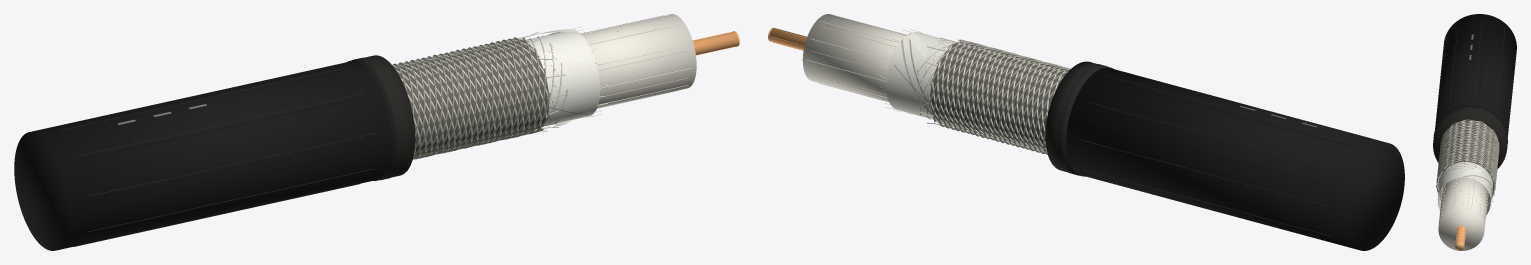
Rendered from rf-belden1855a-macro.glb.
3 views of the same model, side by side, from view 1: azimuth 30°, elevation 25°; view 2: azimuth 150°, elevation 25°; view 3: azimuth 270°, elevation 25° (orthographic). The views are drawn at different scales.
Visible parts, largest first — view 1: macro jacket body, macro dielectric exposed core, shadow seen through braid windows, continuous foil sleeve under braid, thick jacket cut wall, rounded jacket cut lip, polished solid center conductor, macro braid shadow carrier 06 strand 1, macro braid shadow carrier 04 strand 1, macro braid shadow carrier 08 strand 1, macro braid shadow carrier 05 strand 1, macro braid shadow carrier 07 strand 1 (+2 smaller); view 2: macro jacket body, macro dielectric exposed core, shadow seen through braid windows, continuous foil sleeve under braid, thick jacket cut wall, rounded jacket cut lip, polished solid center conductor, macro braid shadow carrier 04 strand 1, macro braid shadow carrier 02 strand 1, macro braid shadow carrier 03 strand 1, macro braid shadow carrier 01 strand 1, macro braid shadow carrier 12 strand 1 (+3 smaller); view 3: macro jacket body, macro dielectric exposed core, thick jacket cut wall, continuous foil sleeve under braid, shadow seen through braid windows, macro braid shadow carrier 05 strand 2, macro braid shadow carrier 11 strand 2, macro braid shadow carrier 08 strand 2, macro braid shadow carrier 04 strand 2, macro braid shadow carrier 10 strand 2, macro braid shadow carrier 09 strand 2, rounded jacket cut lip (+42 smaller).
Part boxes in pixels (x1,y1,x2,y2): macro jacket body: [14, 61, 390, 250]; macro dielectric exposed core: [582, 14, 696, 108]; shadow seen through braid windows: [394, 40, 548, 155]; continuous foil sleeve under braid: [526, 30, 600, 125]; thick jacket cut wall: [347, 55, 415, 180]; rounded jacket cut lip: [352, 57, 403, 180]; polished solid center conductor: [693, 31, 738, 54]; macro braid shadow carrier 06 strand 1: [425, 38, 522, 157]; macro braid shadow carrier 04 strand 1: [415, 41, 511, 158]; macro braid shadow carrier 08 strand 1: [437, 37, 534, 154]; macro braid shadow carrier 05 strand 1: [420, 39, 516, 158]; macro braid shadow carrier 07 strand 1: [430, 37, 528, 156]; macro jacket body: [1066, 67, 1404, 250]; macro dielectric exposed core: [802, 14, 905, 101]; shadow seen through braid windows: [930, 43, 1067, 151]; continuous foil sleeve under braid: [886, 32, 955, 119]; thick jacket cut wall: [1045, 61, 1113, 176]; rounded jacket cut lip: [1055, 64, 1108, 175]; polished solid center conductor: [769, 28, 806, 50]; macro braid shadow carrier 04 strand 1: [933, 47, 1058, 141]; macro braid shadow carrier 02 strand 1: [943, 49, 1068, 144]; macro braid shadow carrier 03 strand 1: [938, 48, 1063, 143]; macro braid shadow carrier 01 strand 1: [948, 50, 1065, 145]; macro braid shadow carrier 12 strand 1: [953, 51, 1069, 147]; macro jacket body: [1435, 14, 1516, 137]; macro dielectric exposed core: [1438, 177, 1488, 250]; thick jacket cut wall: [1433, 105, 1507, 168]; continuous foil sleeve under braid: [1438, 162, 1492, 214]; shadow seen through braid windows: [1438, 122, 1493, 193]; macro braid shadow carrier 05 strand 2: [1437, 134, 1499, 190]; macro braid shadow carrier 11 strand 2: [1436, 124, 1498, 193]; macro braid shadow carrier 08 strand 2: [1437, 119, 1498, 176]; macro braid shadow carrier 04 strand 2: [1438, 132, 1497, 199]; macro braid shadow carrier 10 strand 2: [1436, 122, 1498, 182]; macro braid shadow carrier 09 strand 2: [1436, 121, 1498, 180]; rounded jacket cut lip: [1433, 107, 1507, 148].
Size of the model in its own units: 6.45 by 1.02 by 1.14.
